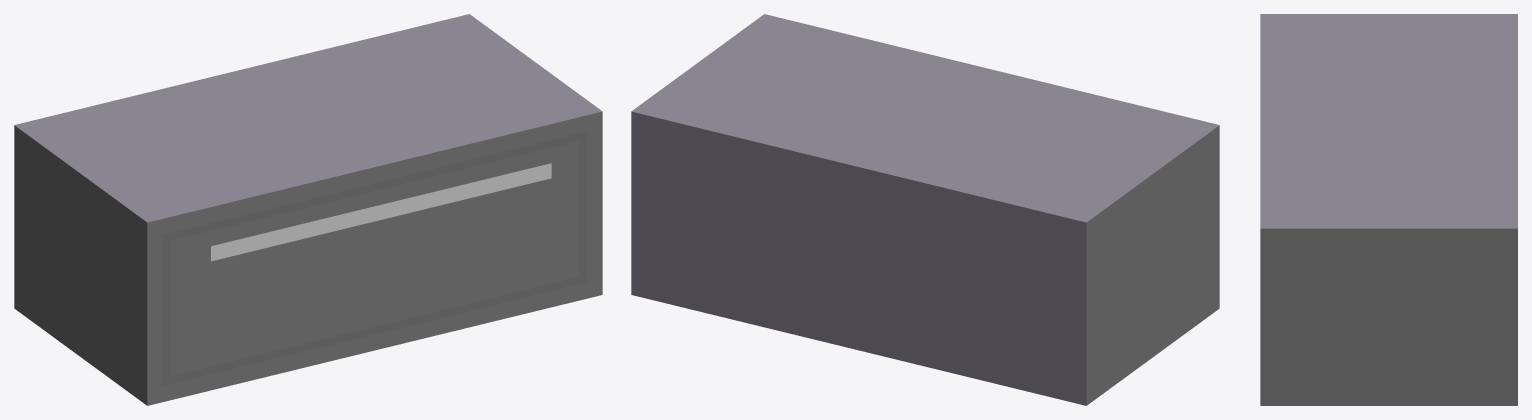
Rendered from filecab2.dae.
3 renders of one model, left to right at view 1: azimuth 30°, elevation 25°; view 2: azimuth 150°, elevation 25°; view 3: azimuth 270°, elevation 25°, orthographic. The views are drawn at different scales.
Visible parts, largest first — view 1: filecab2; view 2: filecab2; view 3: filecab2.
Part boxes in pixels (x1=…): filecab2: x1=14, y1=14, x2=602, y2=405; filecab2: x1=631, y1=14, x2=1219, y2=405; filecab2: x1=1260, y1=14, x2=1517, y2=405.
Size of the model in its own units: 3.95 by 2.09 by 1.52.
Materials: 1 (1 with a texture image).
